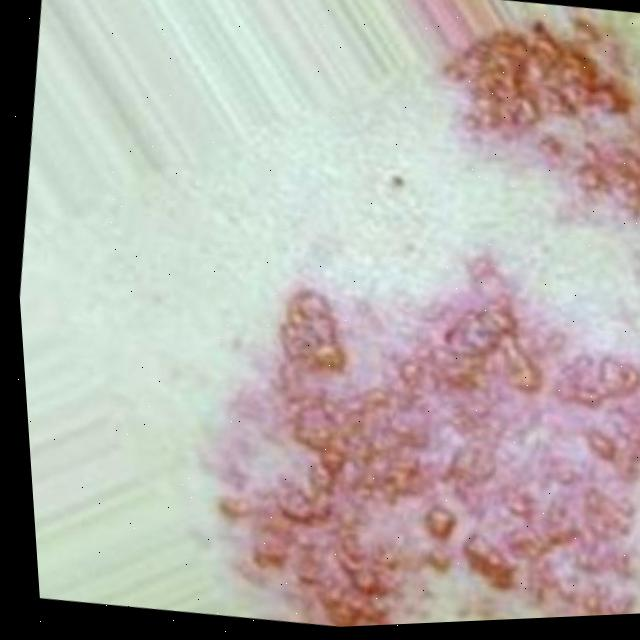Shingles: (194, 250, 640, 632), (438, 19, 640, 210)
